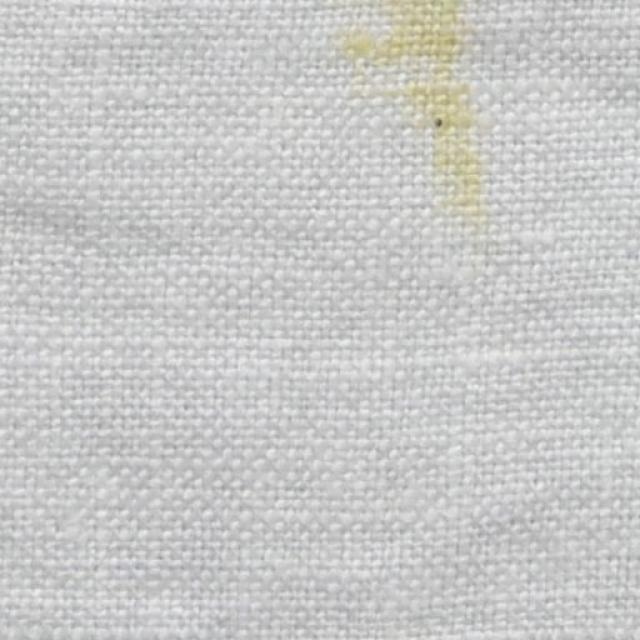Stain: (328, 0, 489, 246)
